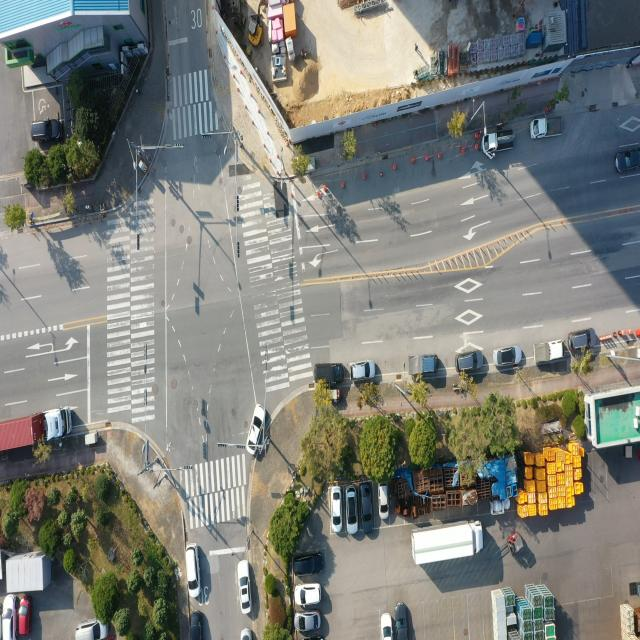car: (246, 403, 266, 454), (29, 117, 62, 142), (185, 545, 199, 598), (314, 363, 344, 387), (294, 554, 323, 578), (1, 595, 16, 640), (568, 330, 596, 353), (493, 346, 522, 368), (361, 483, 374, 532), (296, 584, 322, 608), (239, 562, 251, 614), (456, 351, 483, 374), (78, 620, 109, 640), (616, 148, 640, 172), (349, 359, 375, 381), (346, 487, 358, 533), (333, 487, 344, 534), (295, 614, 320, 634), (18, 598, 30, 638), (395, 605, 408, 640), (379, 483, 390, 518), (190, 610, 202, 640), (382, 614, 394, 640), (239, 629, 251, 640)
large_truck: (0, 408, 72, 454)
medium_truck: (408, 524, 482, 568)
small_truck: (483, 130, 515, 156), (535, 340, 567, 365), (406, 352, 438, 377), (530, 118, 563, 140)
